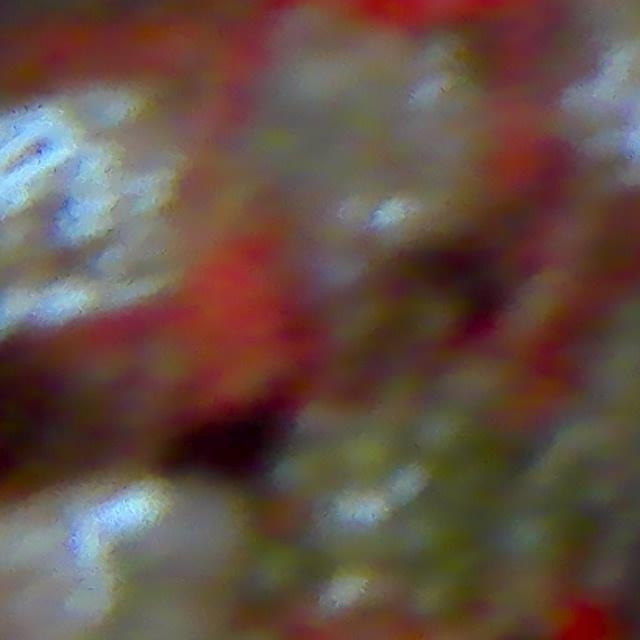SeaGrape: (496, 506, 568, 571), (402, 285, 468, 350), (247, 539, 307, 600)
